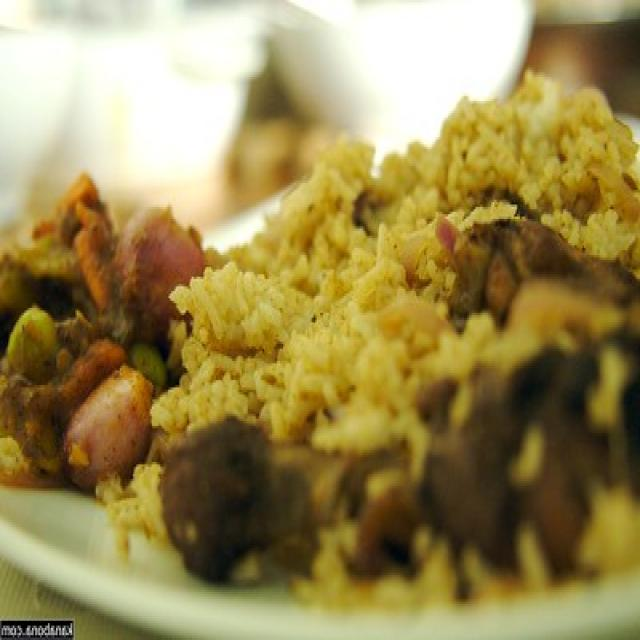Biryani: (116, 62, 639, 640)
